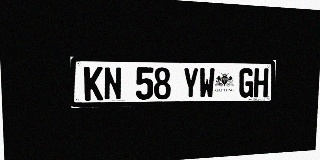5: (136, 67, 153, 100)
8: (154, 67, 171, 99)
G: (239, 68, 254, 98)
H: (253, 68, 268, 97)
K: (84, 67, 103, 101)
N: (103, 67, 122, 100)
W: (199, 68, 215, 98)
Y: (182, 67, 199, 99)
